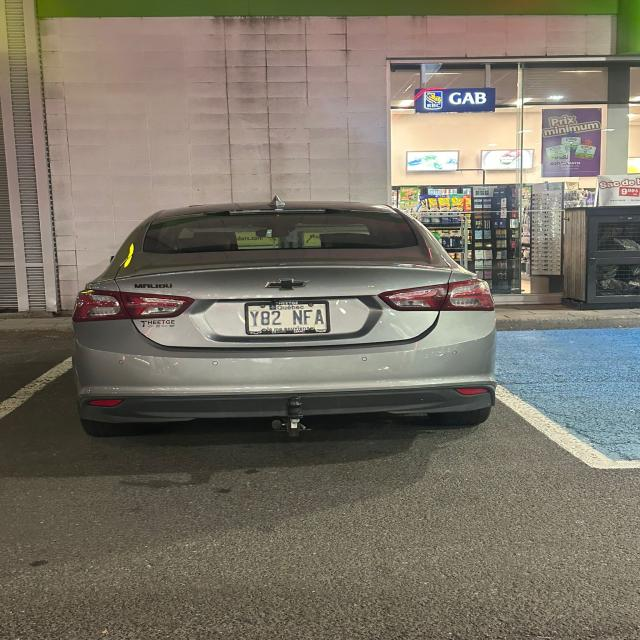plaque: (246, 301, 329, 334)
